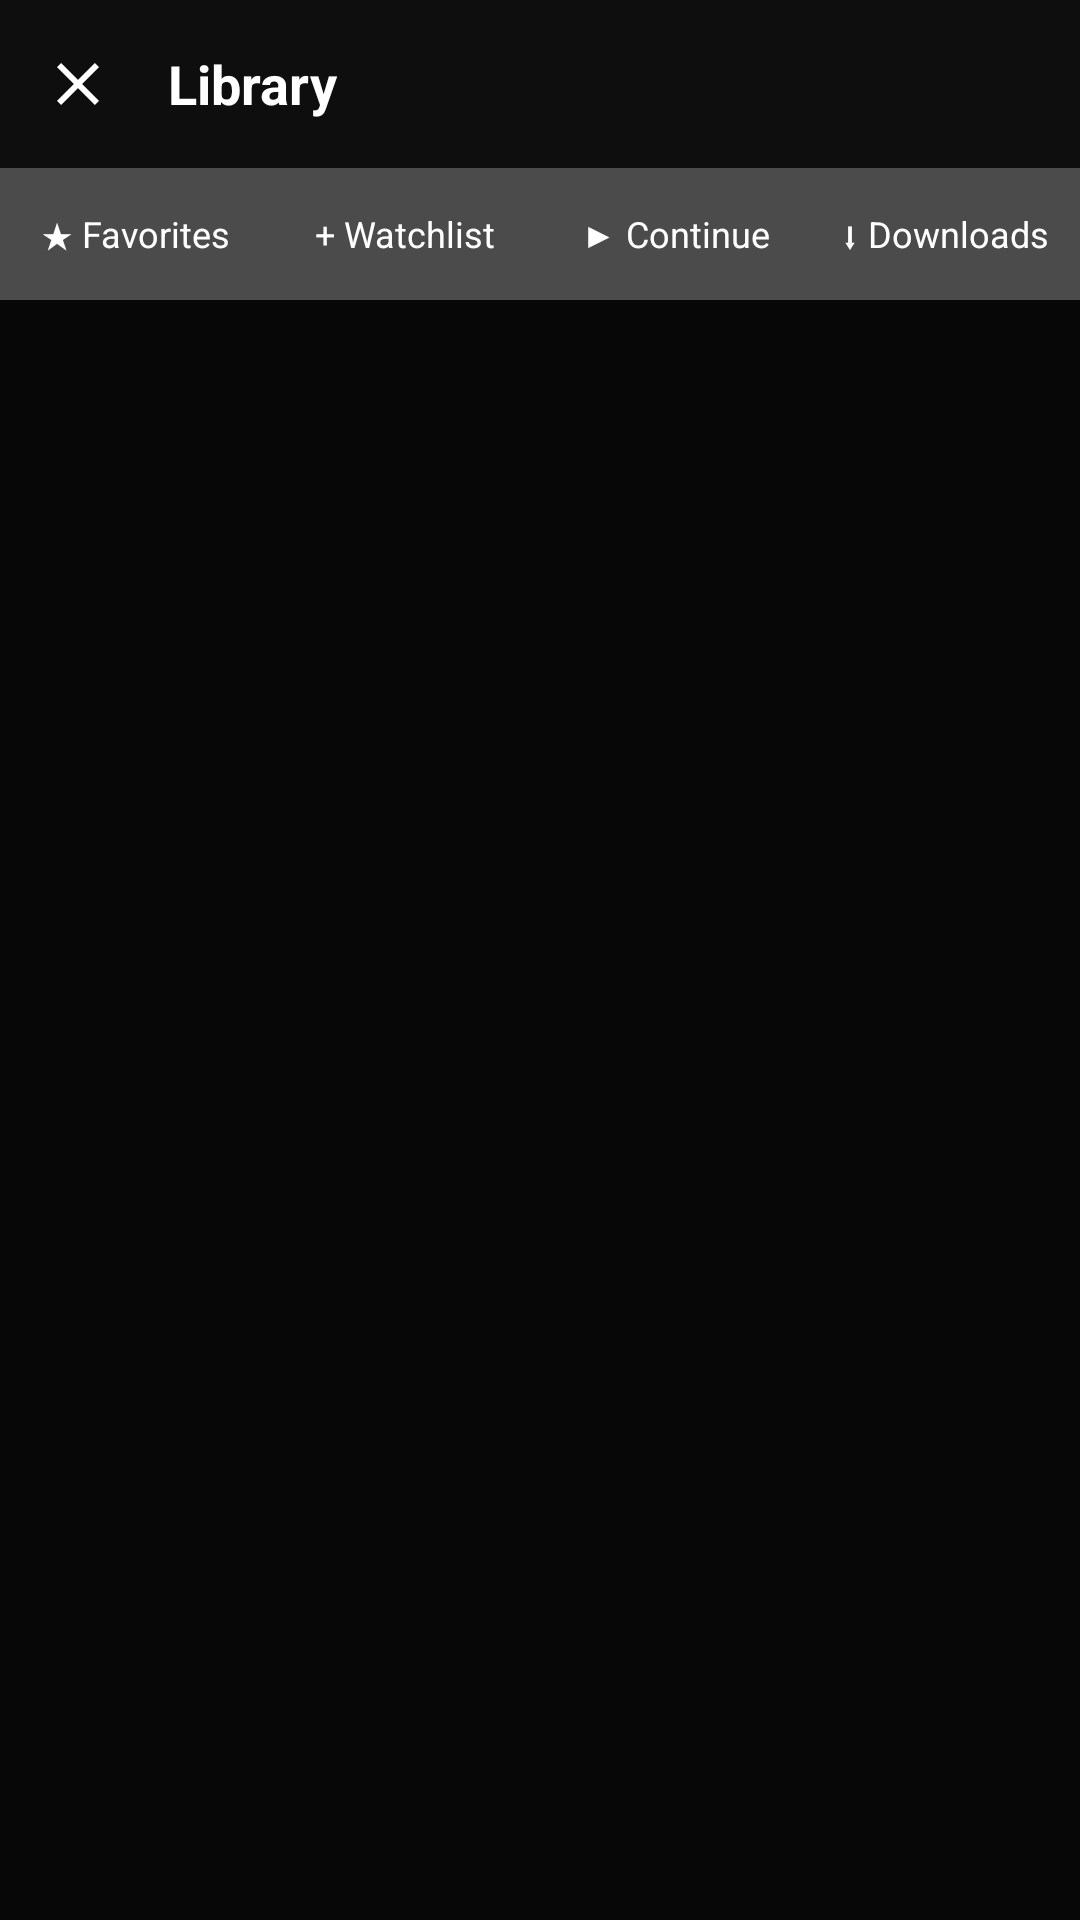

Where icons sit on this 1080*1920 app screen, as (x1, y1, x2, y2):
Back: (57, 63, 99, 105)
